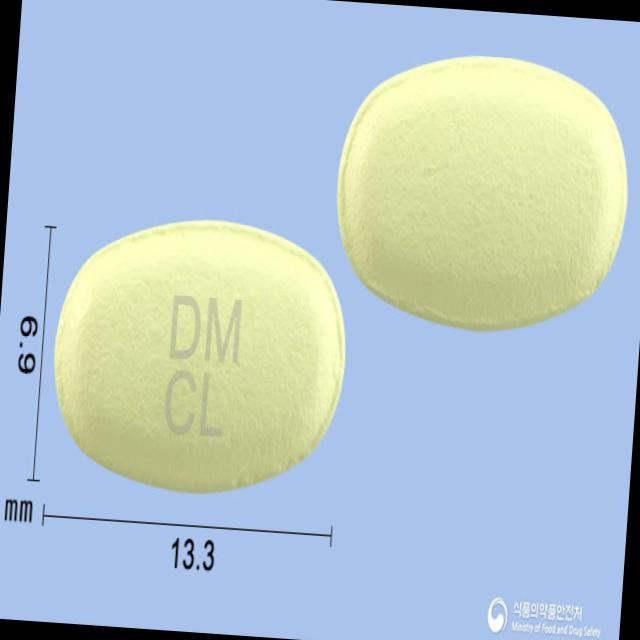Reclarcin Tab: (44, 206, 353, 502)
